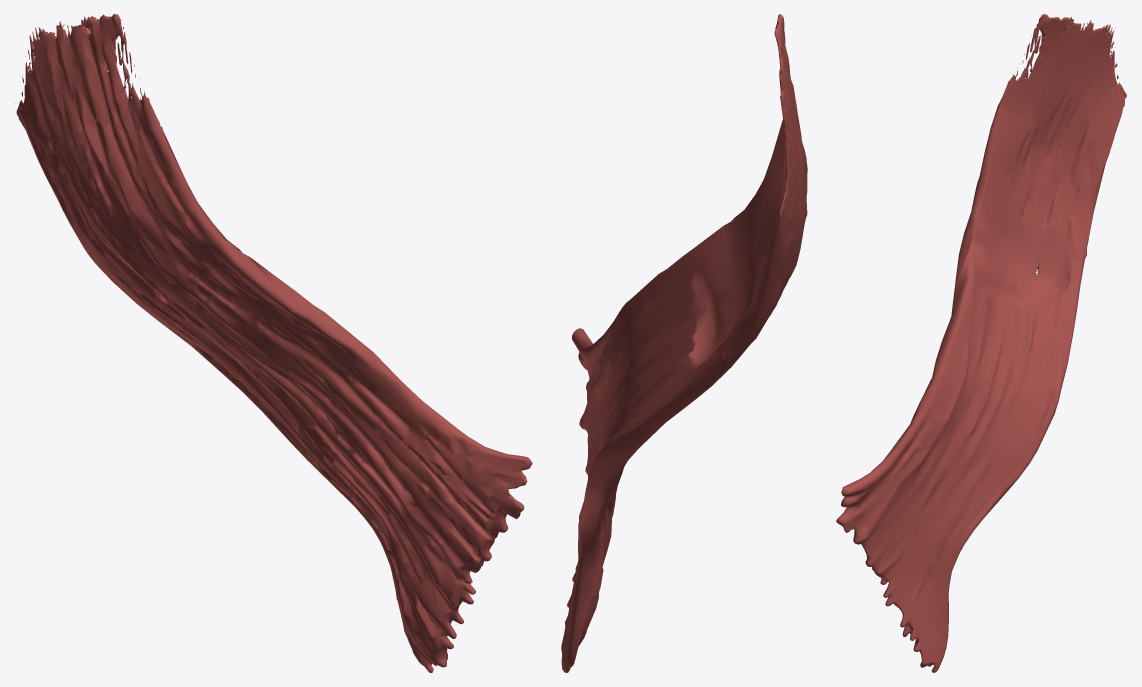
File: FMA46812.glb
3 renders of one model, left to right at view 1: azimuth 30°, elevation 25°; view 2: azimuth 150°, elevation 25°; view 3: azimuth 270°, elevation 25°, orthographic. The views are drawn at different scales.
Visible parts, largest first — view 1: FMA46812; view 2: FMA46812; view 3: FMA46812.
Boxes of the visible parts, x1,y1,x2,y2 form: FMA46812: (15, 14, 532, 672); FMA46812: (561, 14, 807, 672); FMA46812: (836, 14, 1126, 672).
Size of the model in its own units: 0.0286 by 0.0528 by 0.025.
